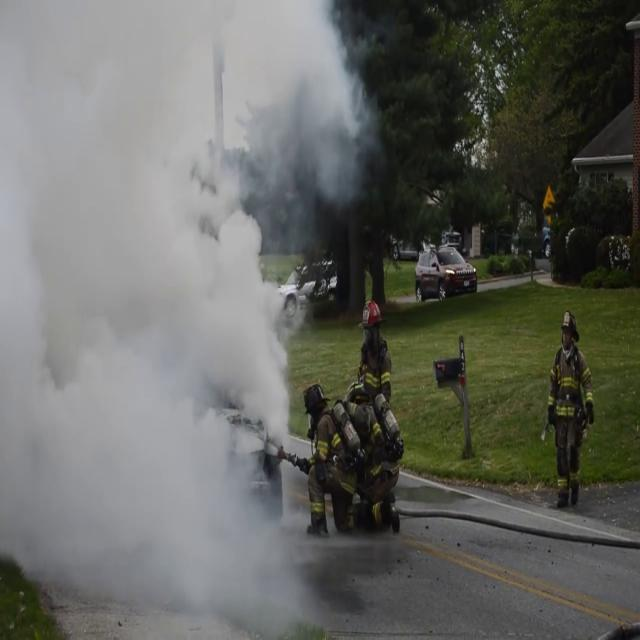Smoke: (0, 1, 380, 634)
